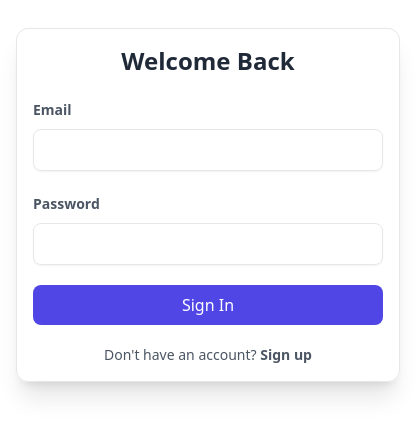
Test: Login Page › displays error message if login fails
This screenshot has width=417, height=428.
Type "wrong@example.com" into the field labelled "Email" at (208, 150), box [33, 129, 383, 171]
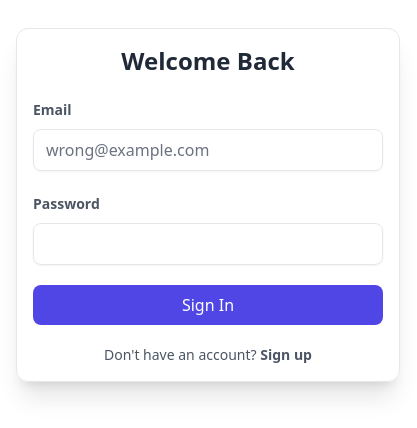
Type "wrongpass" into the password field labelled "Password" at (208, 244), box [33, 223, 383, 265]
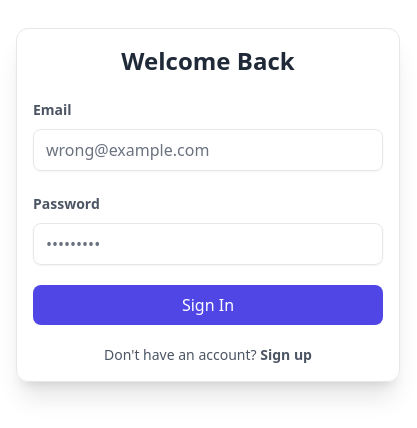
Click the button "Sign In" at (208, 305), box [33, 285, 383, 325]
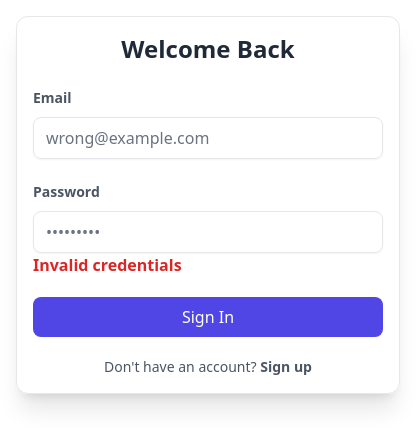
Check: the text "Invalid credentials" is shown, box [33, 254, 182, 276]
